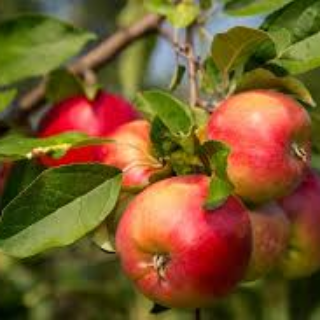tao: (116, 171, 253, 312), (204, 85, 315, 207)
